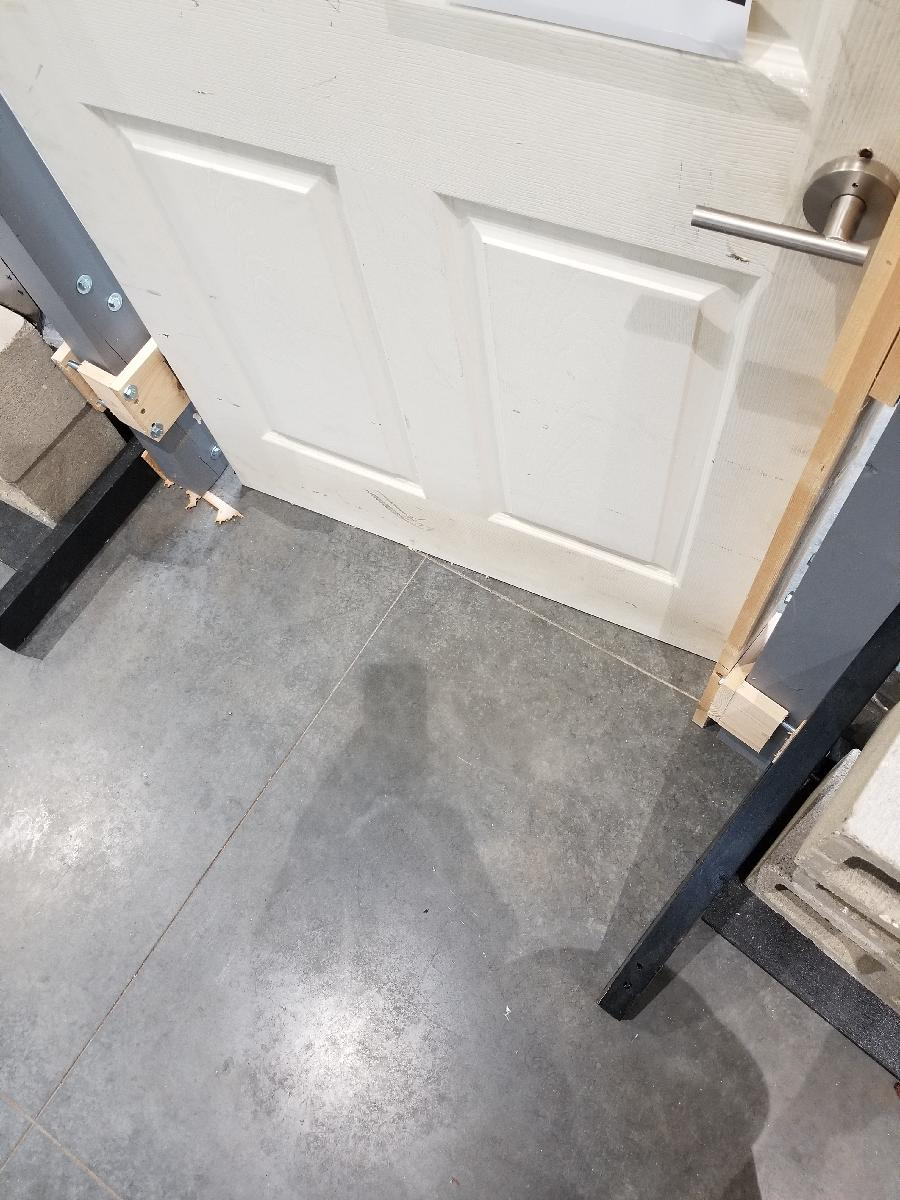doorHandle: (677, 145, 900, 271)
